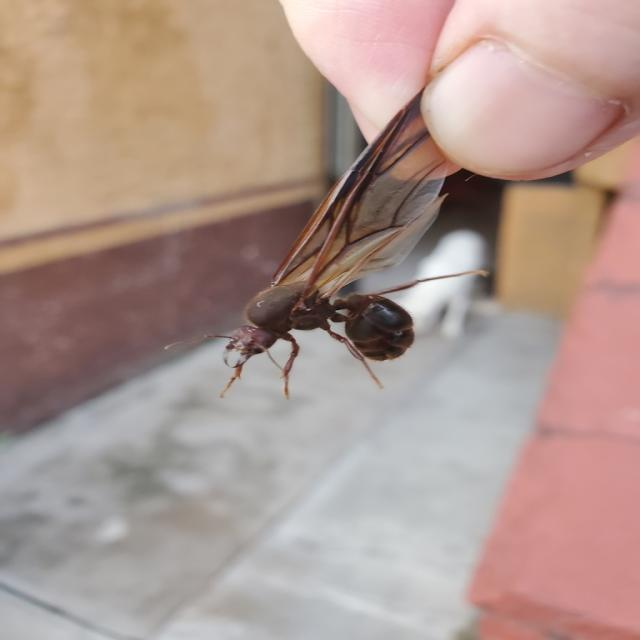Alive-Female-Alate: (164, 85, 491, 399)
